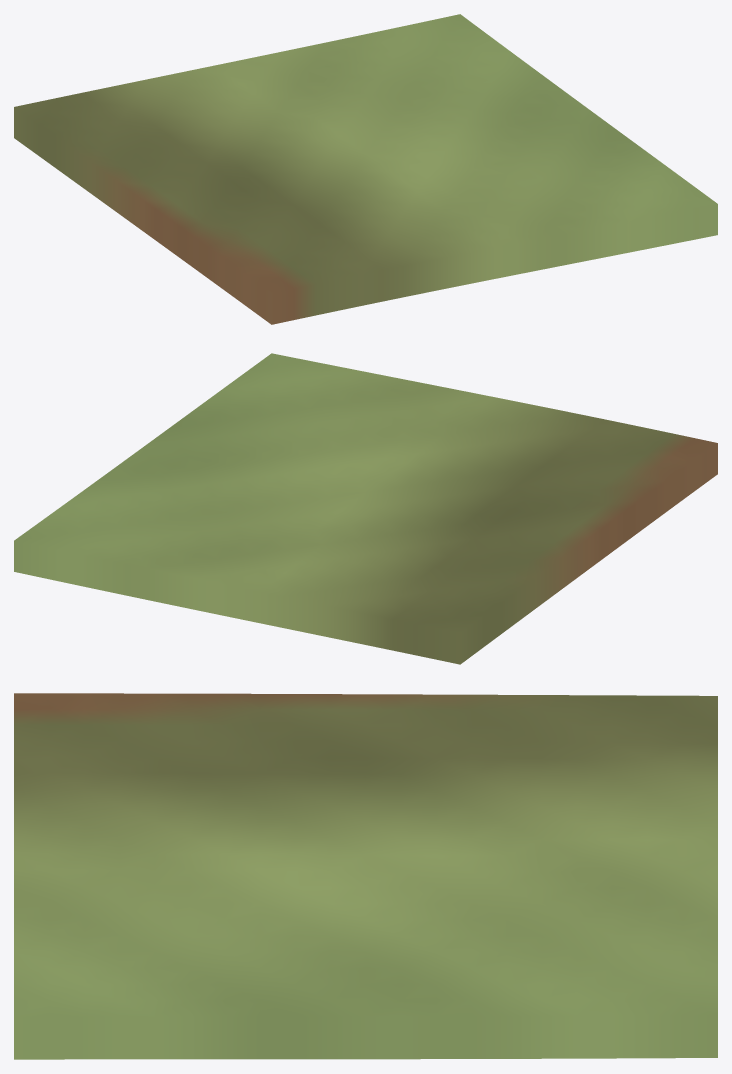
3 renders of one model, top to bottom at view 1: azimuth 30°, elevation 25°; view 2: azimuth 150°, elevation 25°; view 3: azimuth 270°, elevation 25°, orthographic. The views are drawn at different scales.
Parts seen in each view (by area): view 1: terrain; view 2: terrain; view 3: terrain.
Part boxes in pixels (x1=…): terrain: x1=14, y1=14, x2=717, y2=324; terrain: x1=14, y1=353, x2=717, y2=664; terrain: x1=14, y1=693, x2=717, y2=1059.
Bounding box in the file's own units: 30 × 3.23 × 30.
